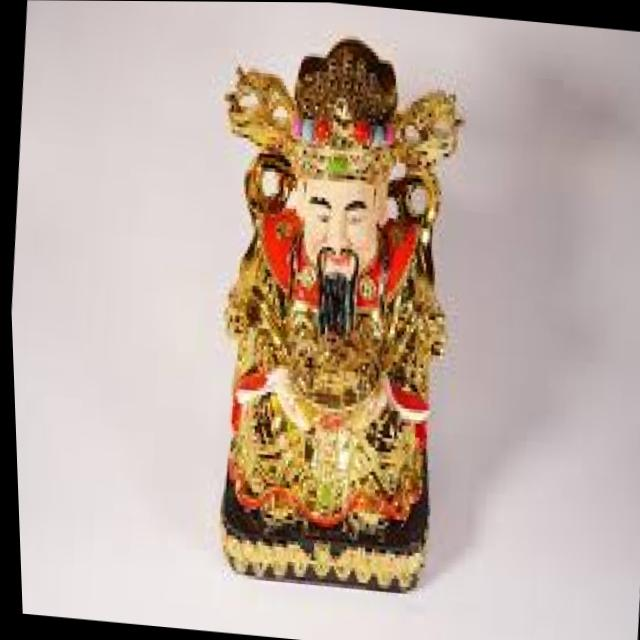Cai shen: (181, 13, 473, 550)
